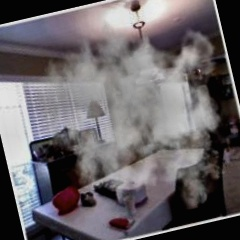smoke: (56, 49, 218, 204)
